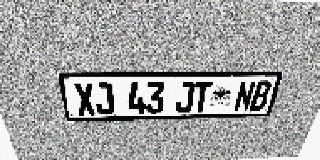3: (146, 82, 164, 114)
4: (127, 82, 146, 114)
B: (249, 81, 273, 111)
J: (93, 82, 115, 115), (175, 82, 195, 113)
N: (233, 81, 256, 111)
T: (192, 81, 213, 112)
X: (73, 83, 96, 116)
